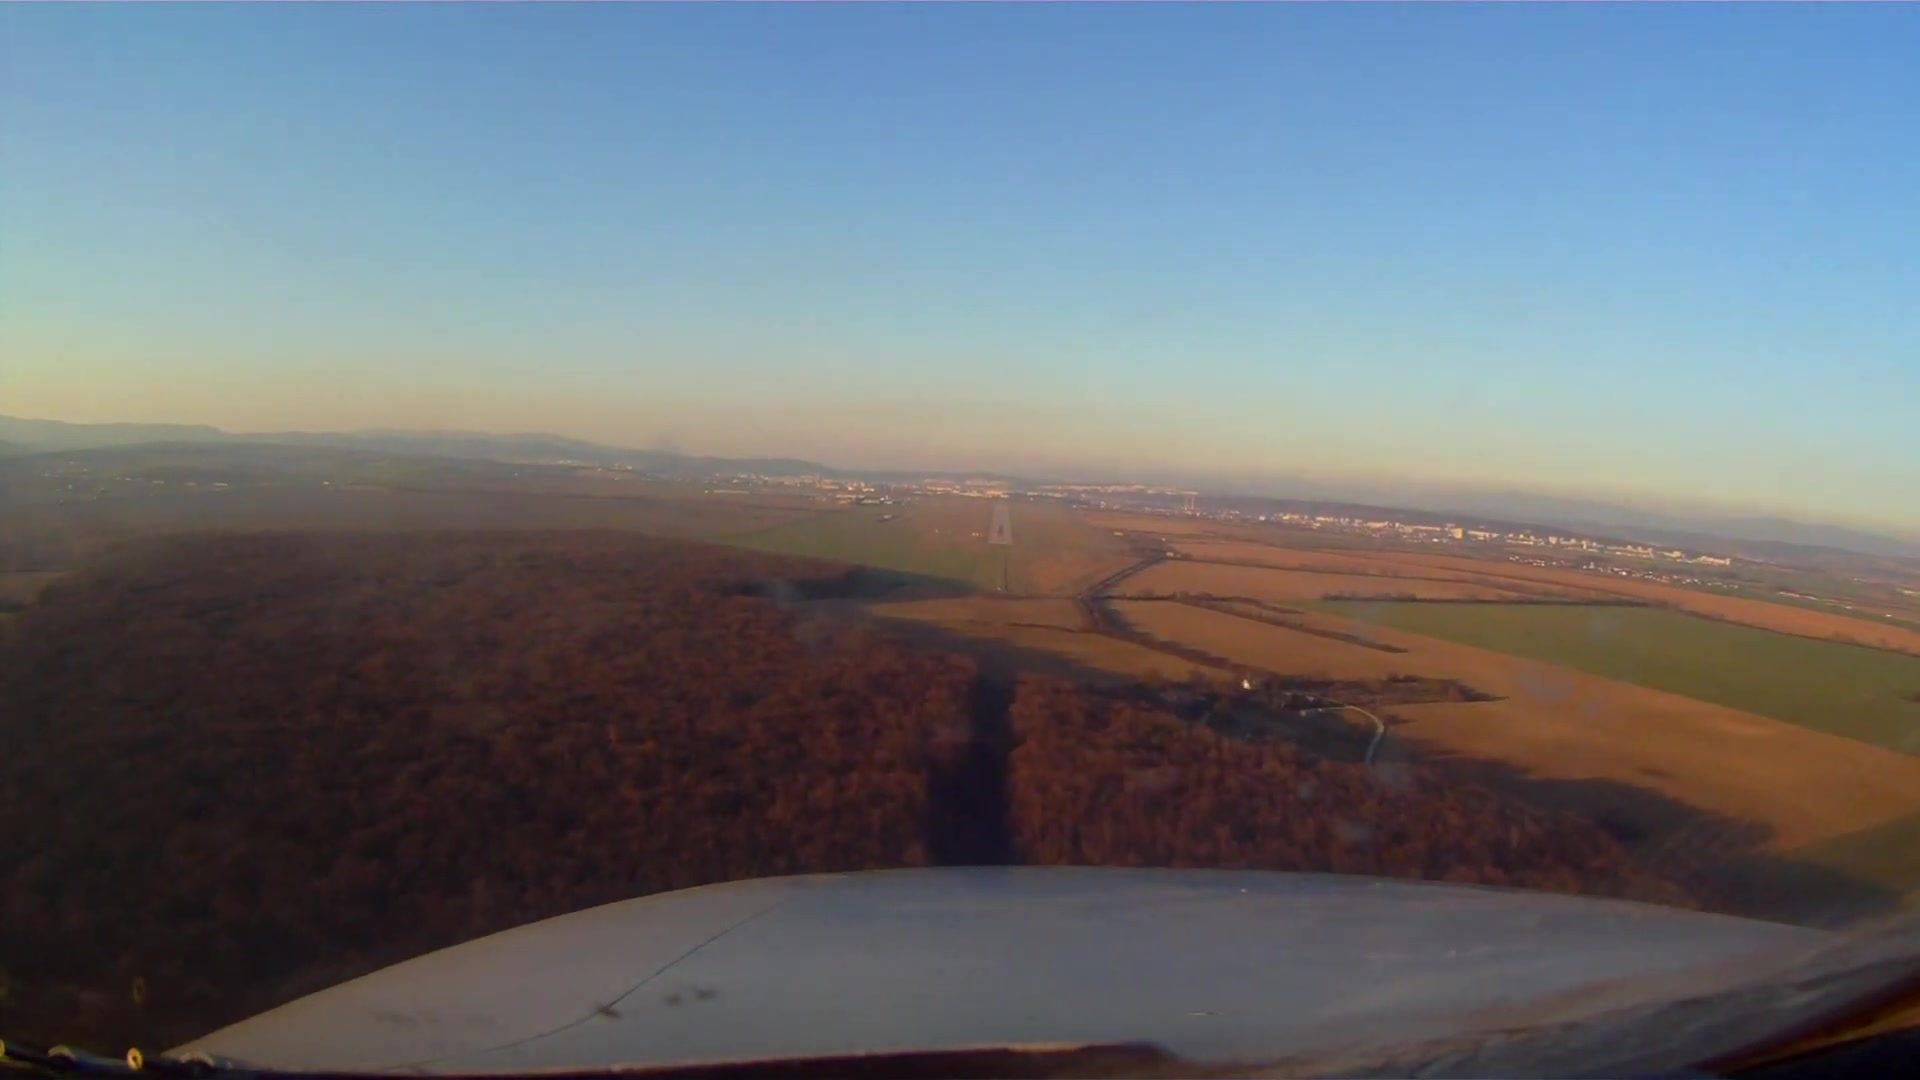runway: (985, 502, 1013, 546)
